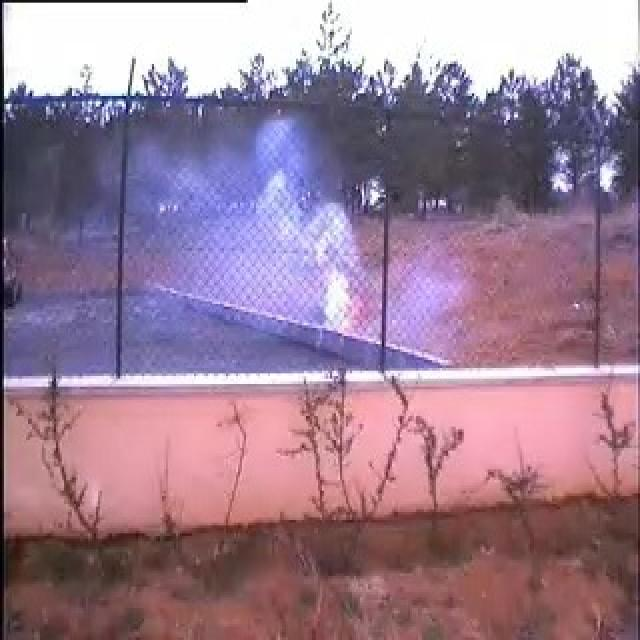smoke: (97, 115, 388, 338)
